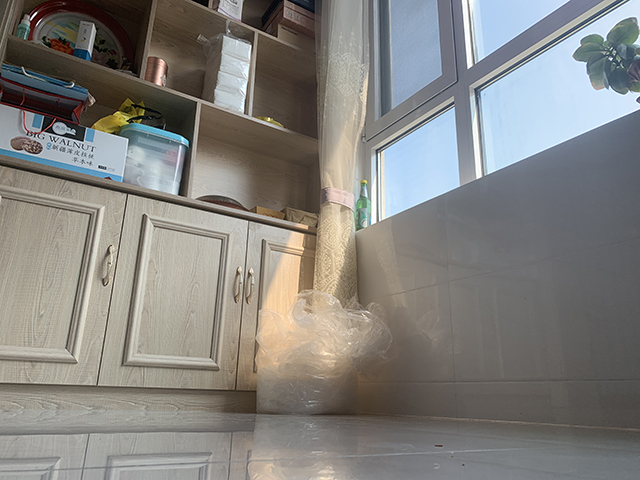cabinet: (1, 158, 318, 414)
curtain: (314, 1, 367, 310)
